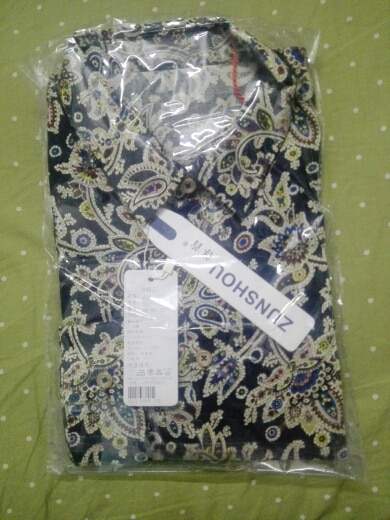shirts: (45, 36, 324, 439)
